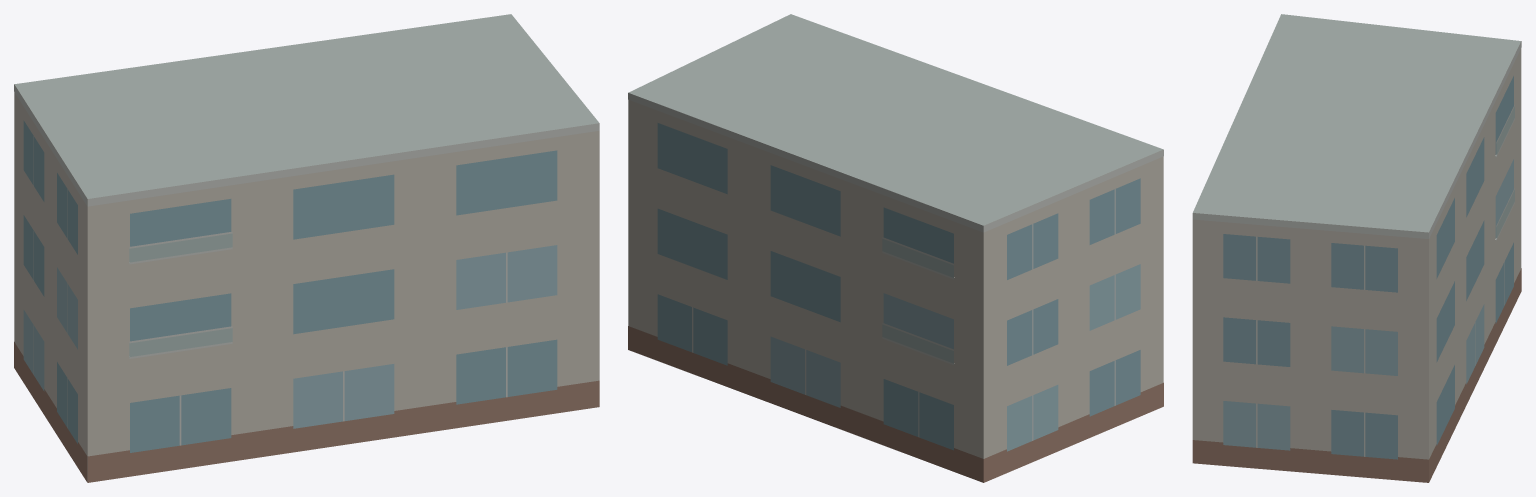
Rendered from survey-upis-32544067.glb.
3 views of the same model, side by side, from view 1: azimuth 30°, elevation 25°; view 2: azimuth 150°, elevation 25°; view 3: azimuth 270°, elevation 25° (orthographic). The views are drawn at different scales.
Parts seen in each view (by area): view 1: survey-upis-32544067.tmp; view 2: survey-upis-32544067.tmp; view 3: survey-upis-32544067.tmp.
Part boxes in pixels (box(x1,y1,x2,y2)): survey-upis-32544067.tmp: box(14, 14, 599, 482); survey-upis-32544067.tmp: box(628, 14, 1163, 482); survey-upis-32544067.tmp: box(1192, 14, 1521, 482).
Bounding box in the file's own units: 17.13 × 9.15 × 10.9.
